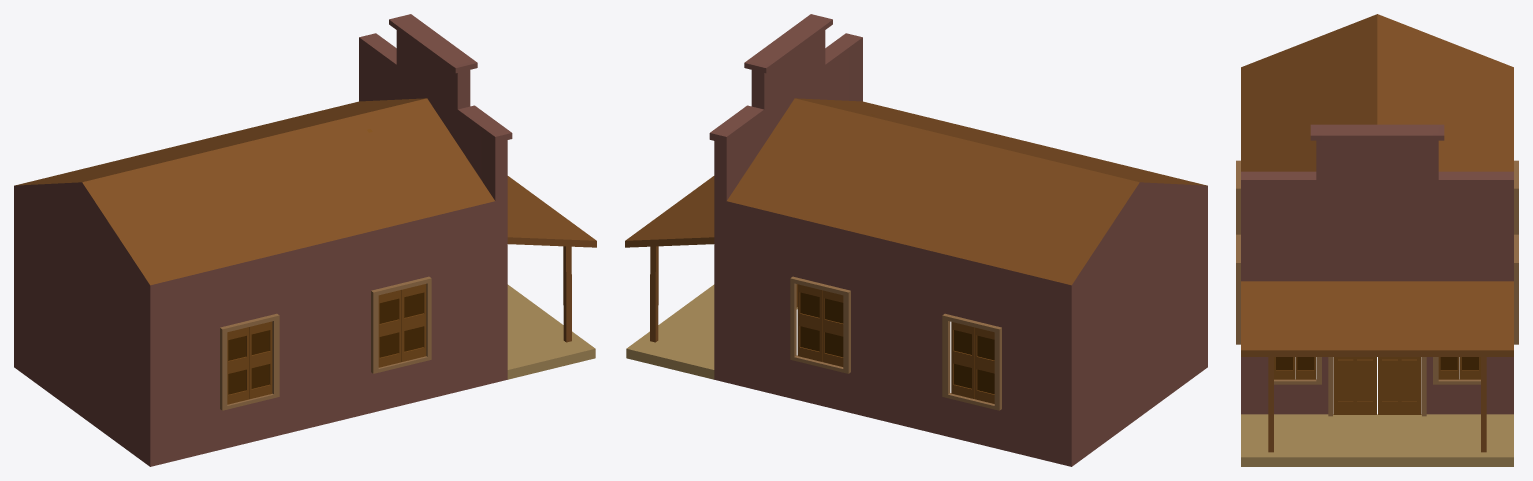
Rendered from House_3.fbx.
3 renders of one model, left to right at view 1: azimuth 30°, elevation 25°; view 2: azimuth 150°, elevation 25°; view 3: azimuth 270°, elevation 25°, orthographic.
Visible parts, largest first — view 1: House_3; view 2: House_3; view 3: House_3.
Boxes of the visible parts, <box> form: House_3: <box>14,14,596,466</box>; House_3: <box>625,14,1207,466</box>; House_3: <box>1236,14,1518,466</box>.
Size of the model in its own units: 23.79 by 14.77 by 13.02.
